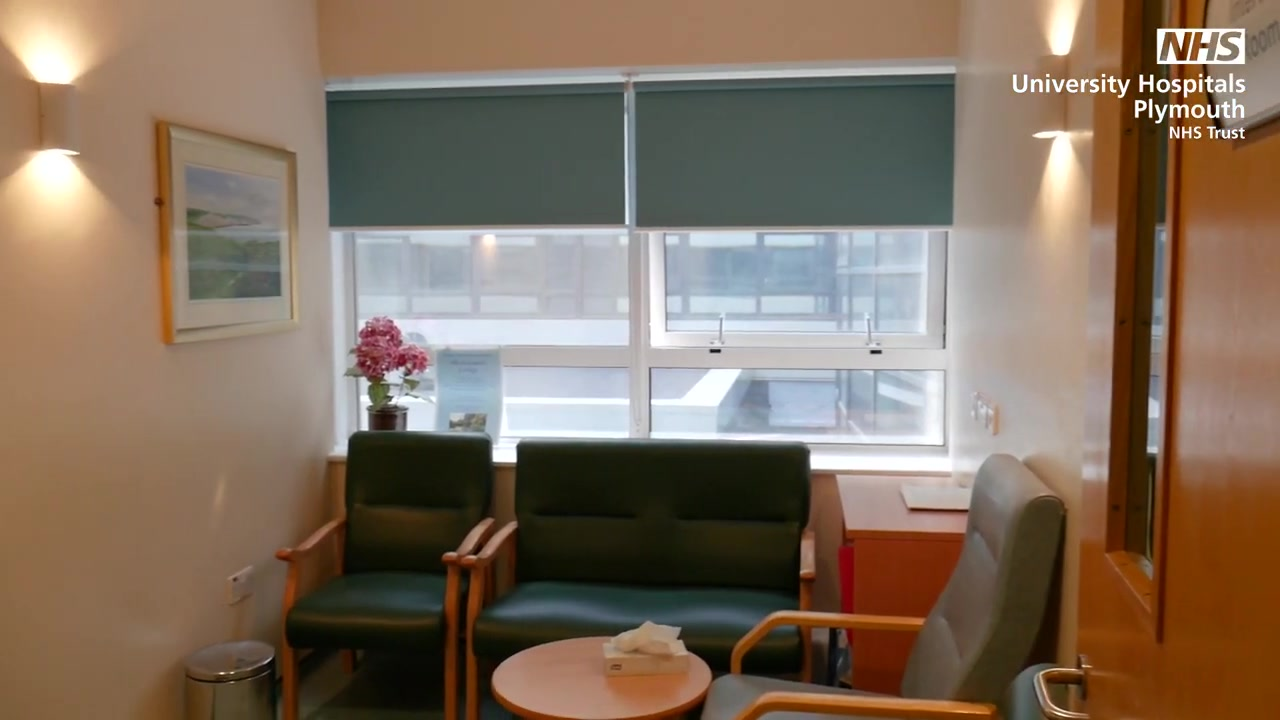chair: (699, 453, 1065, 720), (467, 440, 811, 720), (276, 428, 493, 720)
door_handle: (1034, 651, 1090, 720)
handle: (861, 311, 876, 348), (714, 309, 728, 348)
table: (833, 470, 966, 688), (492, 635, 712, 720)
waste_bin: (185, 634, 276, 720)
